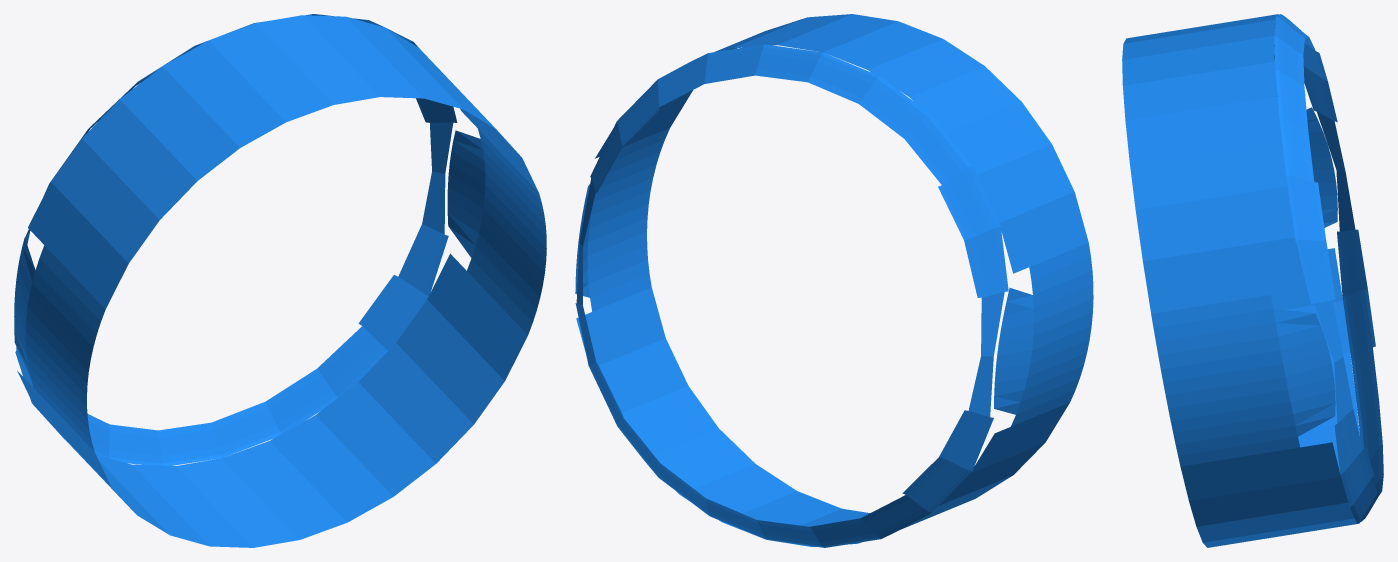
File: original-13.obj
The picture shows the model from 3 angles, left to right: view 1: azimuth 30°, elevation 25°; view 2: azimuth 150°, elevation 25°; view 3: azimuth 270°, elevation 25°; orthographic projection. The views are drawn at different scales.
Visible parts, largest first — view 1: mesh13/mesh13-geometry#mesh13-geometry; view 2: mesh13/mesh13-geometry#mesh13-geometry; view 3: mesh13/mesh13-geometry#mesh13-geometry.
Boxes of the visible parts, x1,y1,x2,y2 form: mesh13/mesh13-geometry#mesh13-geometry: (14,14,546,547); mesh13/mesh13-geometry#mesh13-geometry: (575,14,1093,547); mesh13/mesh13-geometry#mesh13-geometry: (1122,14,1383,547).
Size of the model in its own units: 0.2915 by 0.3022 by 0.1479.
